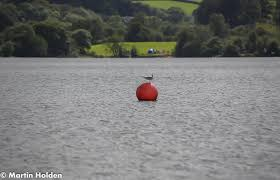buoy: (136, 82, 159, 102)
